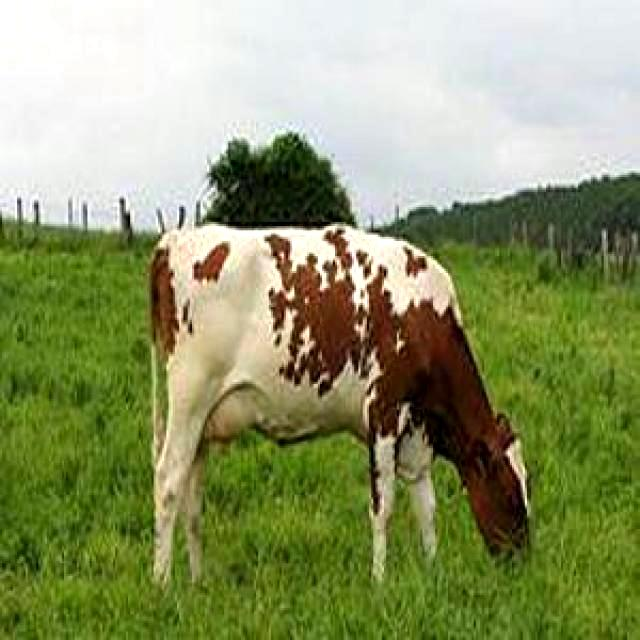COW: (150, 225, 529, 582)
